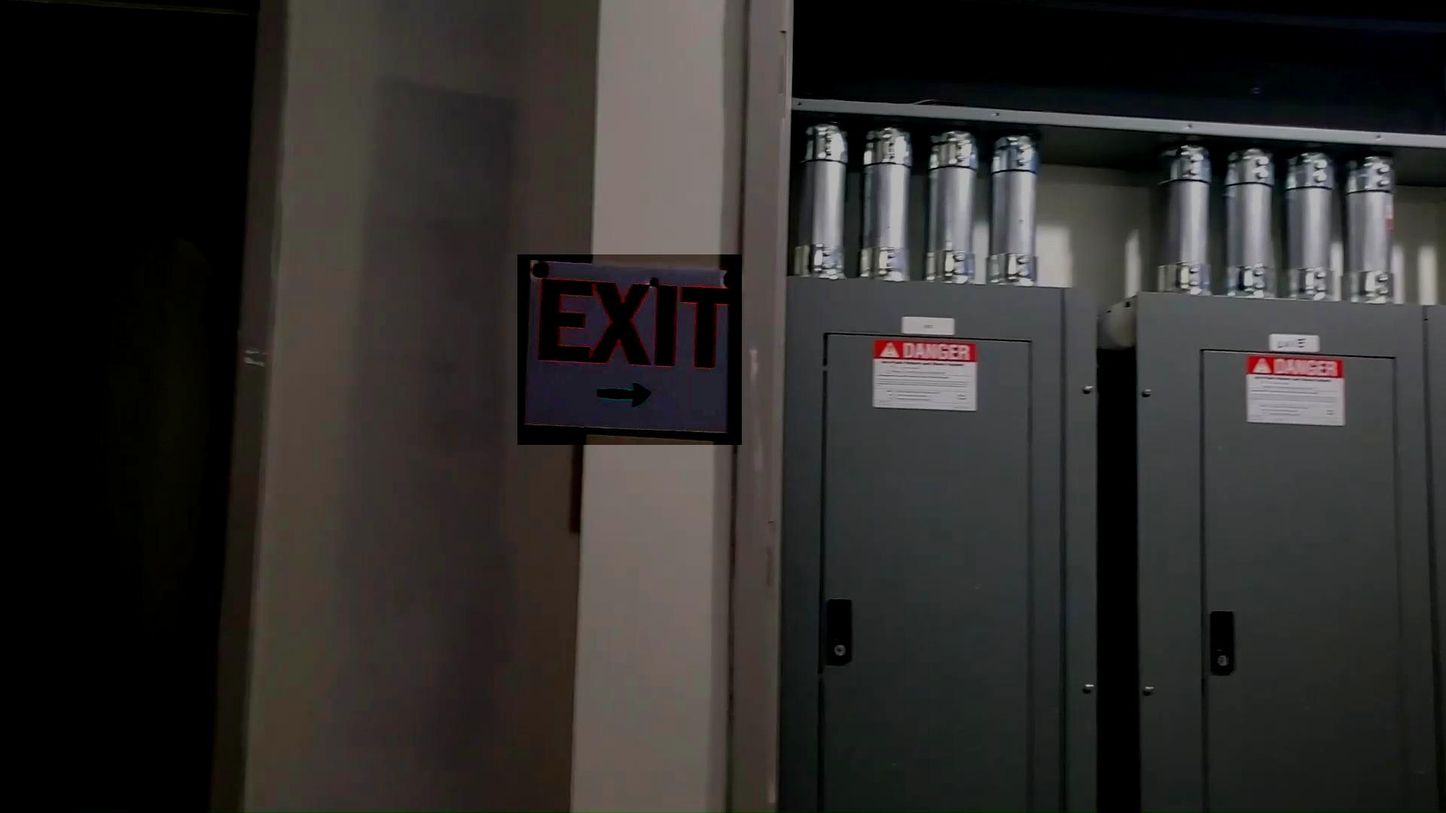exit_sign: (517, 254, 742, 445)
